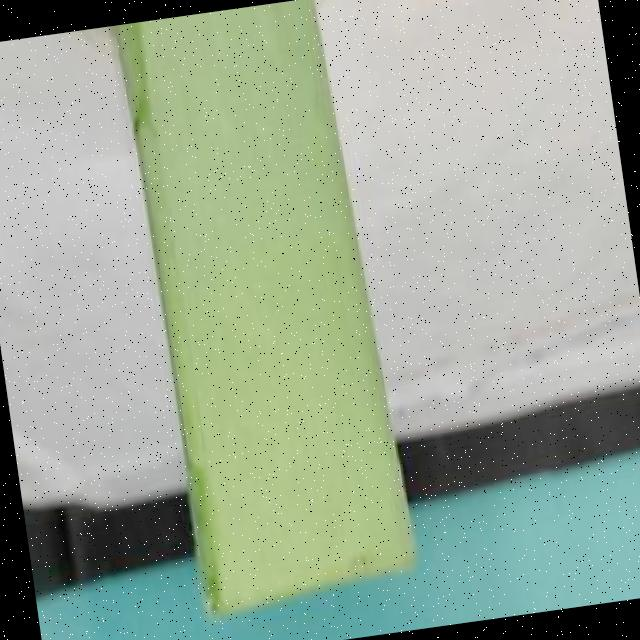greenbox: (110, 0, 425, 630)
